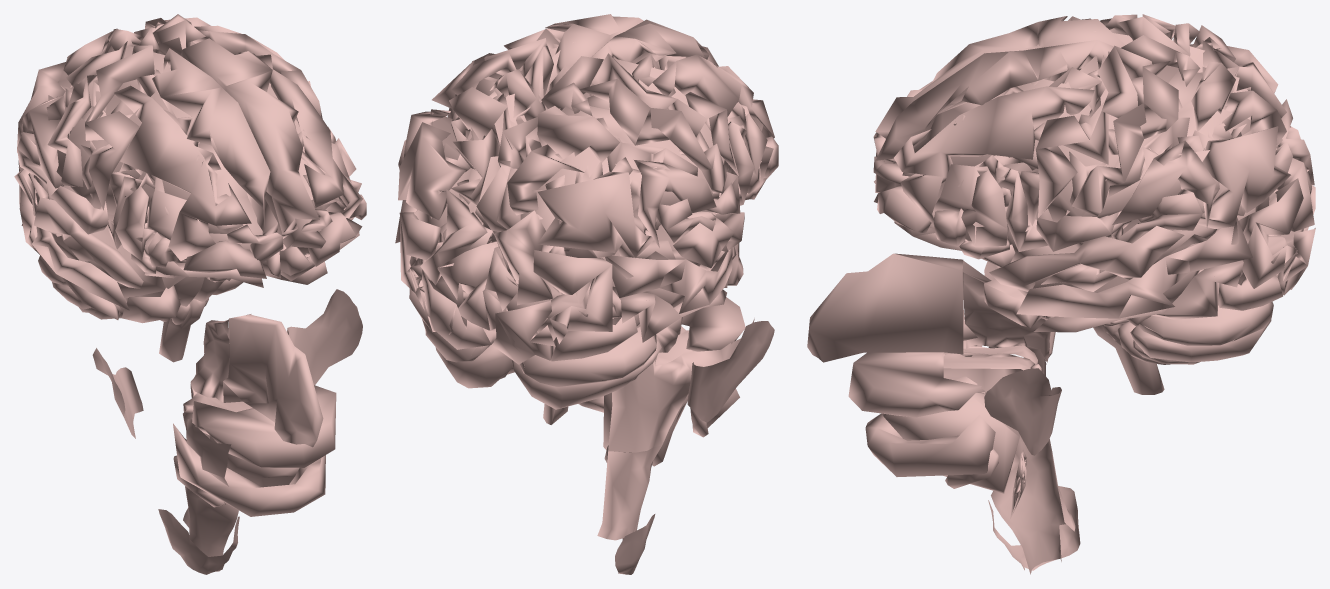
Rendered from lod1-head-organ.glb.
3 renders of one model, left to right at view 1: azimuth 30°, elevation 25°; view 2: azimuth 150°, elevation 25°; view 3: azimuth 270°, elevation 25°, orthographic. The views are drawn at different scales.
Visible parts, largest first — view 1: part::Gingiva, part::Mucosa of nasal cavity, part::Superior frontal gyrus.l, part::Middle frontal gyrus.r, part::Superior frontal gyrus.r, part::White matter of telencephalon.r, part::Precentral gyrus.r, part::Middle frontal gyrus.l, part::Parotid gland.l, part::Middle temporal gyrus.r, part::Postcentral gyrus.r, part::Superior temporal gyrus (Lateral part).r (+36 smaller); view 2: part::Angular gyrus.r, part::Oropharynx, part::White matter of telencephalon.r, part::Superior parietal lobule.r, part::Postcentral gyrus.r, part::Lateral occipital gyrus (Middle occipital gyrus*).r, part::Middle temporal gyrus.r, part::Angular gyrus.l, part::Parotid gland.r, part::Middle frontal gyrus.r, part::Superior semilunar lobule.r, part::Laryngopharynx (+42 smaller); view 3: part::Mucosa of nasal cavity, part::Gingiva, part::Middle frontal gyrus.l, part::White matter of telencephalon.l, part::Superior frontal gyrus.l, part::Middle temporal gyrus.l, part::Precentral gyrus.l, part::Laryngopharynx, part::Angular gyrus.l, part::Superior temporal gyrus (Lateral part).l, part::Postcentral gyrus.l, part::Superior frontal gyrus.r (+37 smaller).
Part boxes in pixels (<box>): part::Gingiva: <box>173,385,336,516</box>; part::Mucosa of nasal cavity: <box>223,314,323,447</box>; part::Superior frontal gyrus.l: <box>180,38,319,238</box>; part::Middle frontal gyrus.r: <box>114,85,251,260</box>; part::Superior frontal gyrus.r: <box>152,48,277,234</box>; part::White matter of telencephalon.r: <box>36,45,263,298</box>; part::Precentral gyrus.r: <box>85,45,154,210</box>; part::Middle frontal gyrus.l: <box>257,54,362,218</box>; part::Parotid gland.l: <box>287,289,362,385</box>; part::Middle temporal gyrus.r: <box>14,167,129,310</box>; part::Postcentral gyrus.r: <box>47,41,127,186</box>; part::Superior temporal gyrus (Lateral part).r: <box>28,173,143,288</box>; part::Angular gyrus.r: <box>537,172,653,257</box>; part::Oropharynx: <box>608,318,754,452</box>; part::White matter of telencephalon.r: <box>506,56,744,340</box>; part::Superior parietal lobule.r: <box>507,106,619,215</box>; part::Postcentral gyrus.r: <box>579,79,727,193</box>; part::Lateral occipital gyrus (Middle occipital gyrus*).r: <box>533,250,612,343</box>; part::Middle temporal gyrus.r: <box>605,247,732,313</box>; part::Angular gyrus.l: <box>398,122,465,220</box>; part::Parotid gland.r: <box>687,321,774,422</box>; part::Middle frontal gyrus.r: <box>652,54,774,138</box>; part::Superior semilunar lobule.r: <box>519,327,656,386</box>; part::Laryngopharynx: <box>597,445,661,574</box>; part::Mucosa of nasal cavity: <box>807,253,977,362</box>; part::Gingiva: <box>848,345,995,476</box>; part::Middle frontal gyrus.l: <box>894,86,1094,225</box>; part::White matter of telencephalon.l: <box>893,51,1303,303</box>; part::Superior frontal gyrus.l: <box>875,40,1113,160</box>; part::Middle temporal gyrus.l: <box>1016,217,1252,318</box>; part::Precentral gyrus.l: <box>1036,45,1152,217</box>; part::Laryngopharynx: <box>991,441,1075,574</box>; part::Angular gyrus.l: <box>1197,126,1290,228</box>; part::Superior temporal gyrus (Lateral part).l: <box>989,226,1184,291</box>; part::Postcentral gyrus.l: <box>1072,61,1178,215</box>; part::Superior frontal gyrus.r: <box>875,16,1125,138</box>.
Size of the model in its own units: 0.1364 by 0.2455 by 0.2053.
